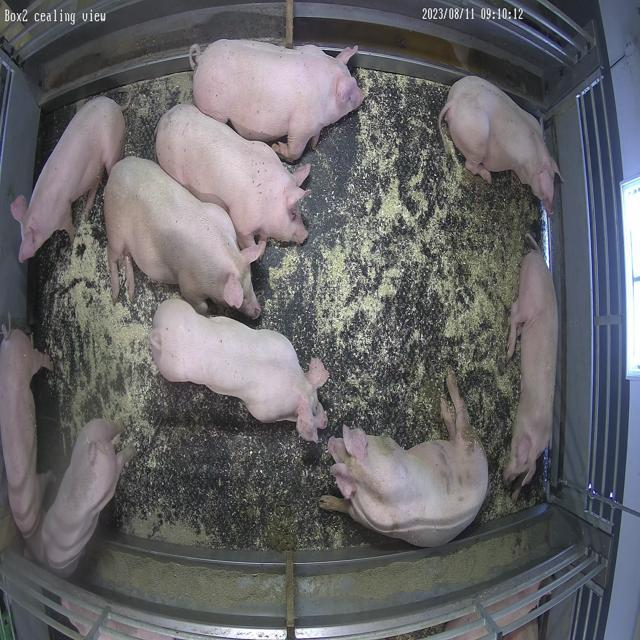Pig: (319, 372, 489, 548), (104, 156, 265, 318), (150, 299, 329, 442), (156, 104, 310, 248), (190, 39, 363, 160), (10, 96, 125, 262), (440, 76, 561, 212), (40, 420, 134, 578), (505, 236, 559, 500), (0, 330, 50, 540)
